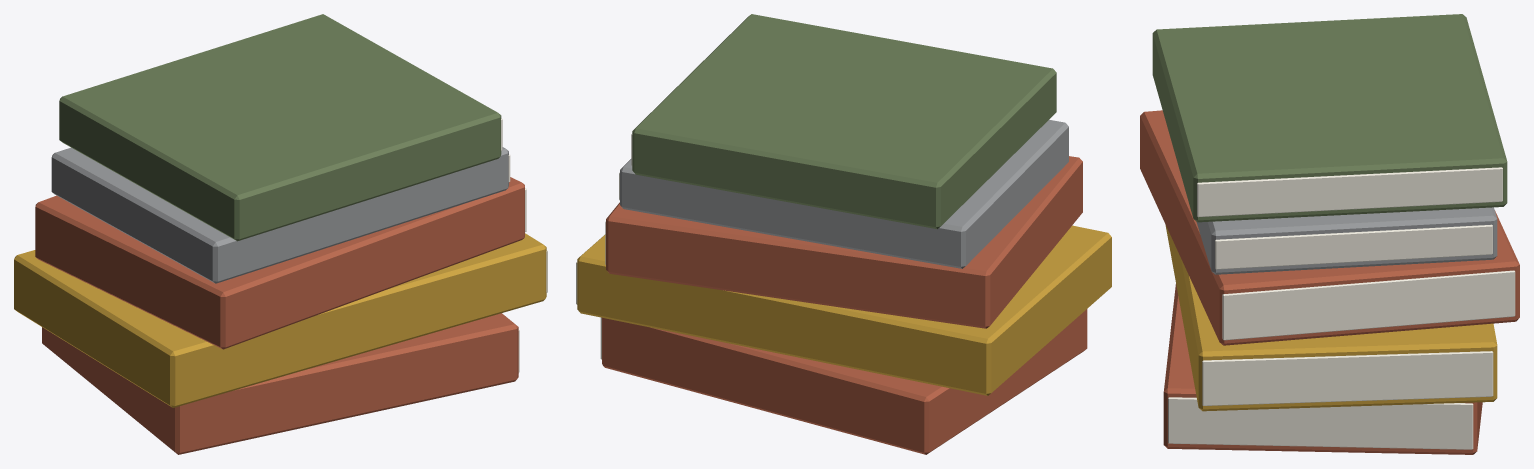
Rendered from i_books_l2.glb.
The picture shows the model from 3 angles, left to right: view 1: azimuth 30°, elevation 25°; view 2: azimuth 150°, elevation 25°; view 3: azimuth 270°, elevation 25°; orthographic projection. The views are drawn at different scales.
Parts seen in each view (by area): view 1: o.008, o.002, o.004, o, o.006; view 2: o.008, o.002, o.004, o, o.006; view 3: o.008, o.004, o.005, o.003, o.001, o.002, o.009, o.007, o.006, o.
Boxes of the visible parts, x1,y1,x2,y2 form: o.008: (59,14,501,241); o.002: (14,233,546,407); o.004: (35,177,524,349); o: (42,313,518,454); o.006: (51,147,508,283); o.008: (632,14,1056,229); o.002: (577,225,1111,395); o.004: (606,156,1082,328); o: (602,309,1087,454); o.006: (620,119,1068,268); o.008: (1152,14,1507,222); o.004: (1140,110,1519,345); o.005: (1222,270,1515,340); o.003: (1202,351,1493,405); o.001: (1168,397,1473,449); o.002: (1165,225,1497,411); o.009: (1197,167,1502,217); o.007: (1215,224,1492,269); o.006: (1196,207,1497,274); o: (1163,284,1482,454).
Size of the model in its own units: 0.2511 by 0.1504 by 0.1891.
